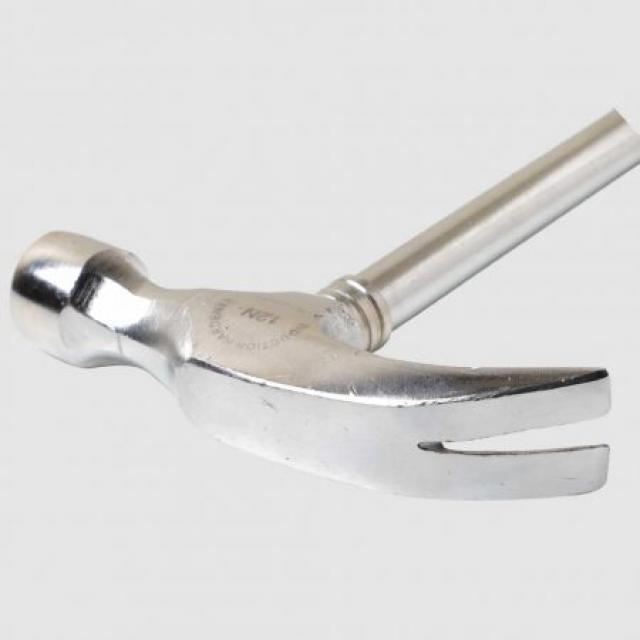hammer: (5, 102, 640, 510)
